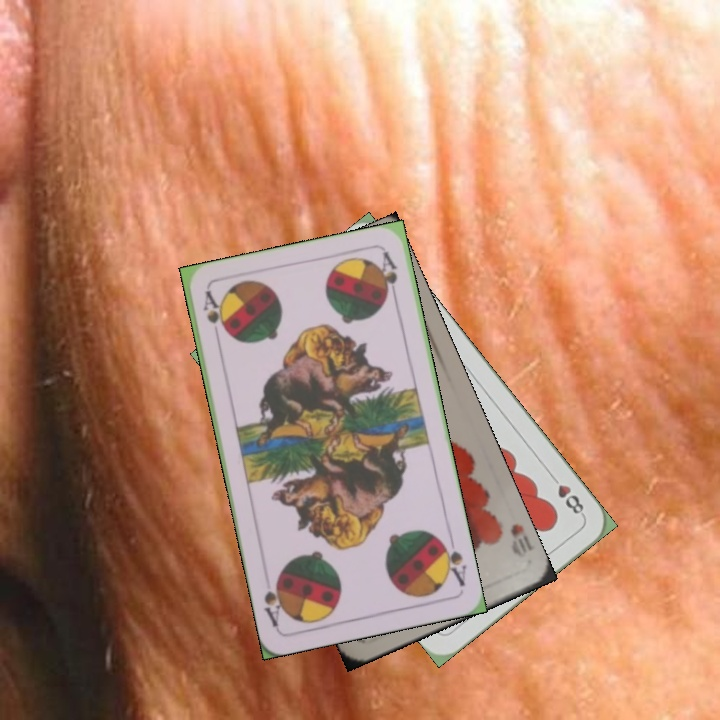H10: (506, 519, 535, 561)
H8: (545, 470, 587, 520)
SA: (435, 531, 469, 589), (199, 287, 228, 346)
